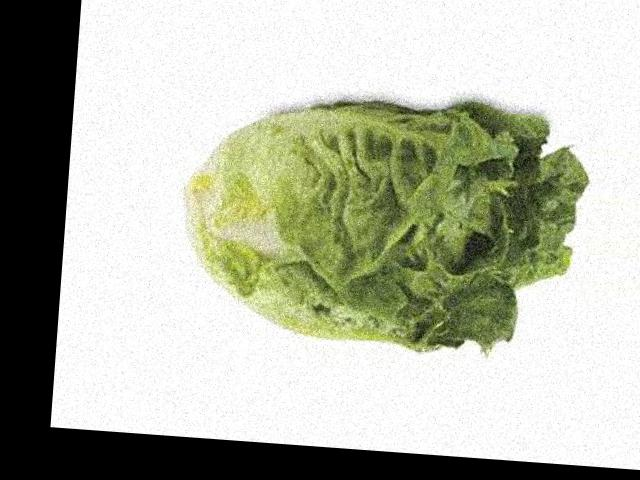lettuce: (387, 94, 542, 256)
